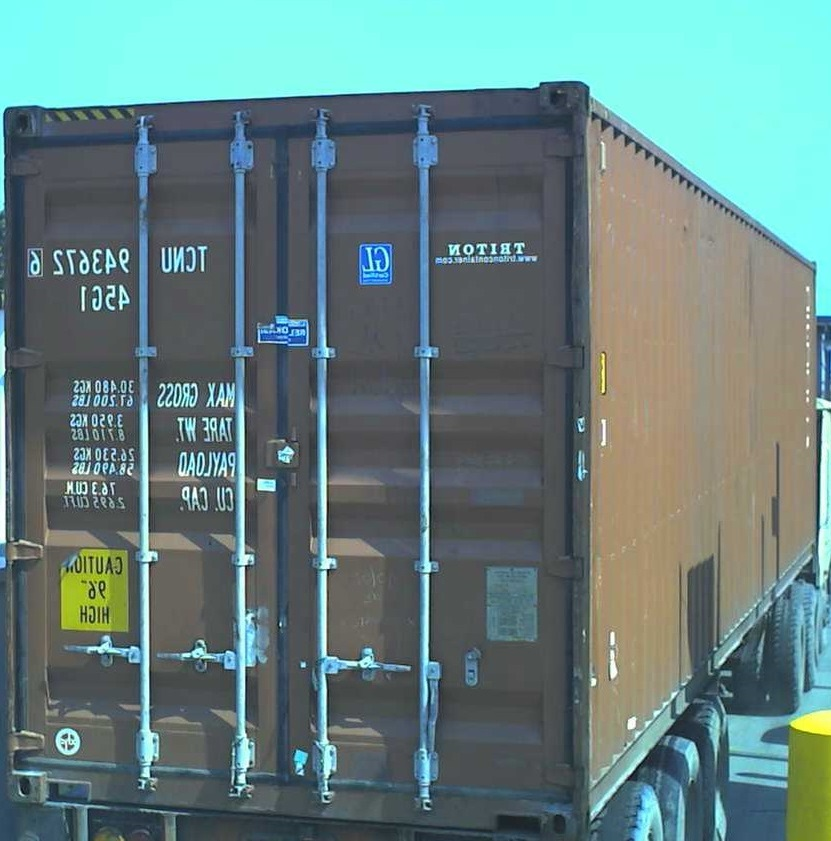container_door: (6, 80, 587, 806)
